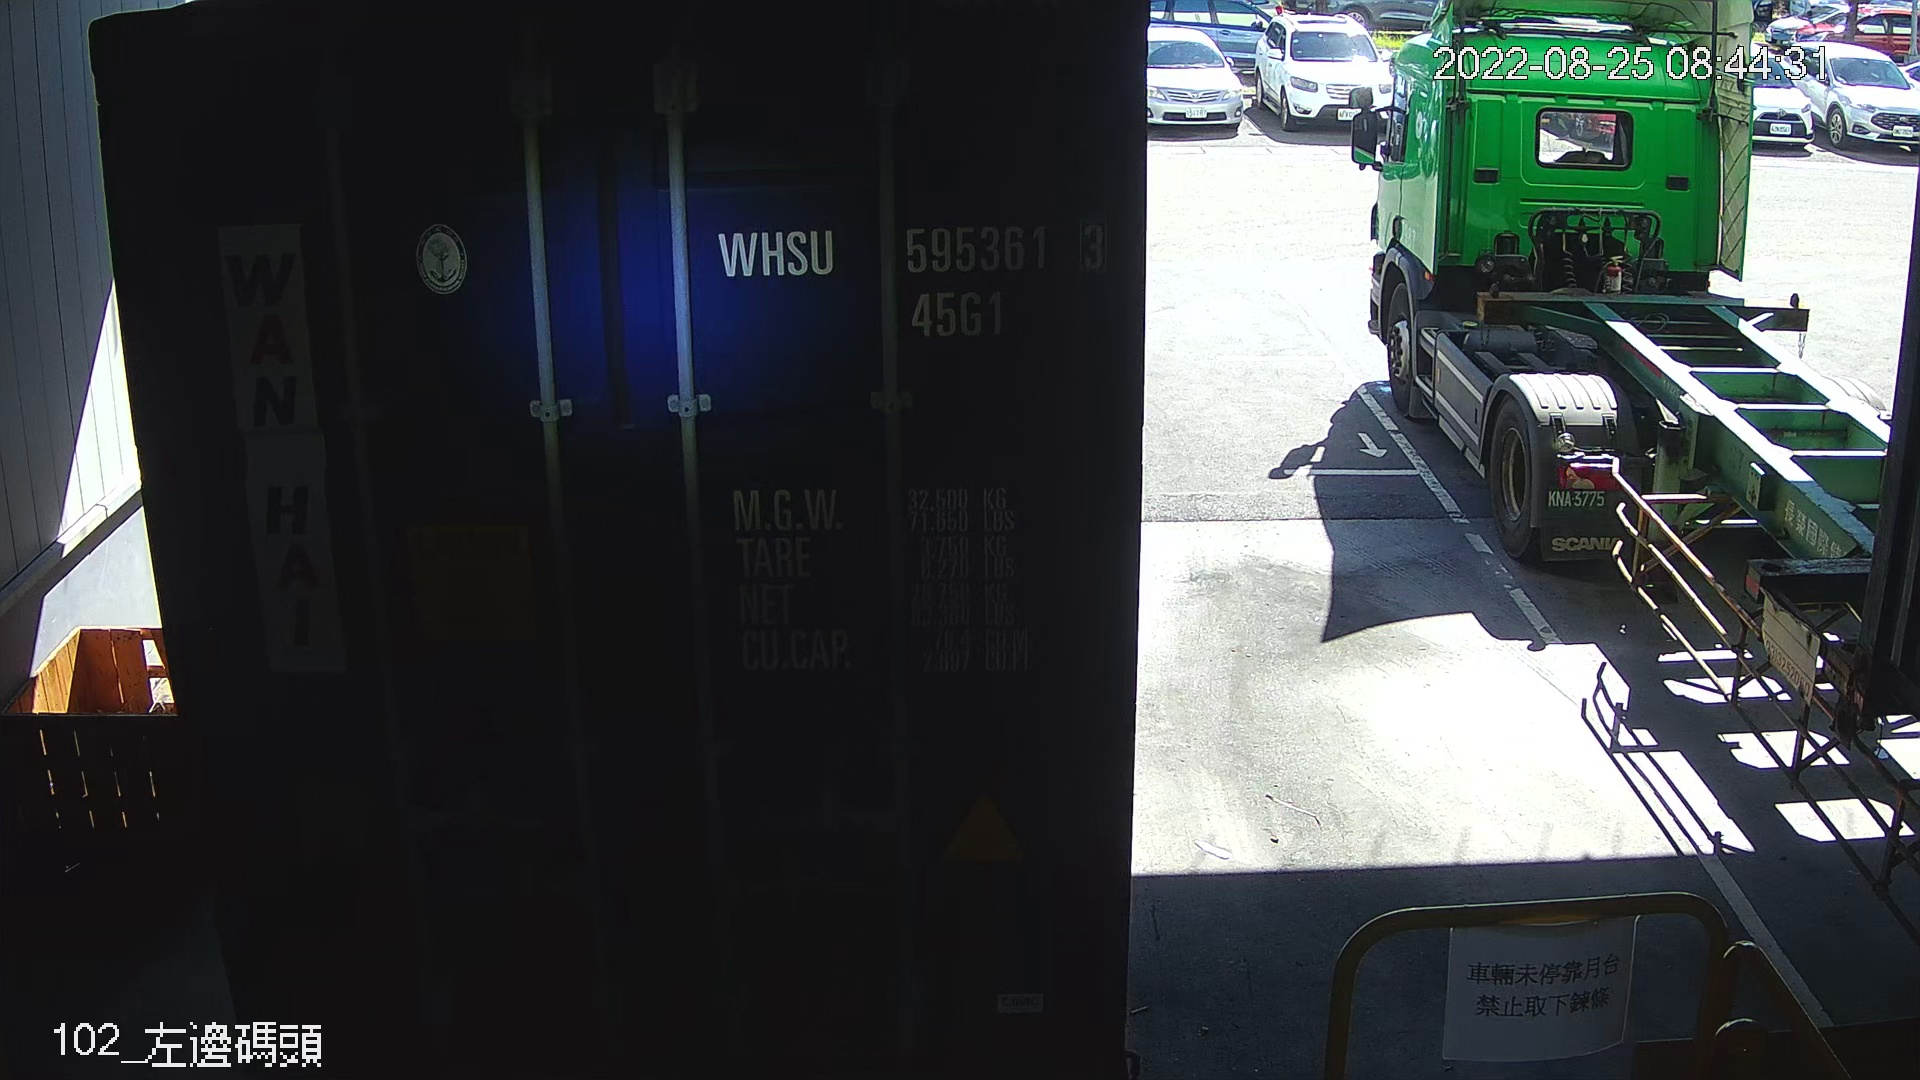container: (703, 210, 1122, 352)
